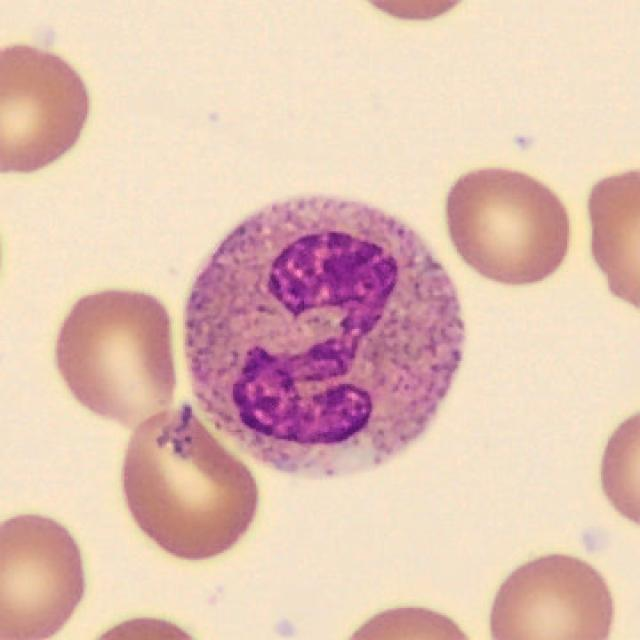Neutrofilo segmentado: (183, 196, 464, 480)
